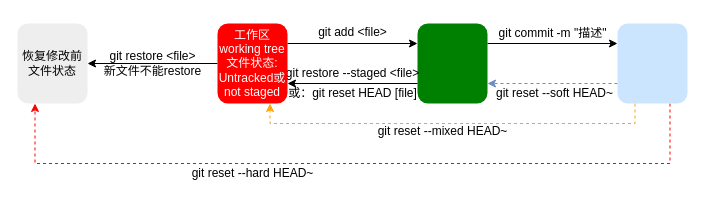
Image size: 704x205. Some labels were removed from this diagram. The centre of each missing label's shape, as x and y in pixels:
"暂存区 index 文件状态: staged" belongs at (x=452, y=63).
"本地仓库 HEAD" belongs at (x=652, y=63).
